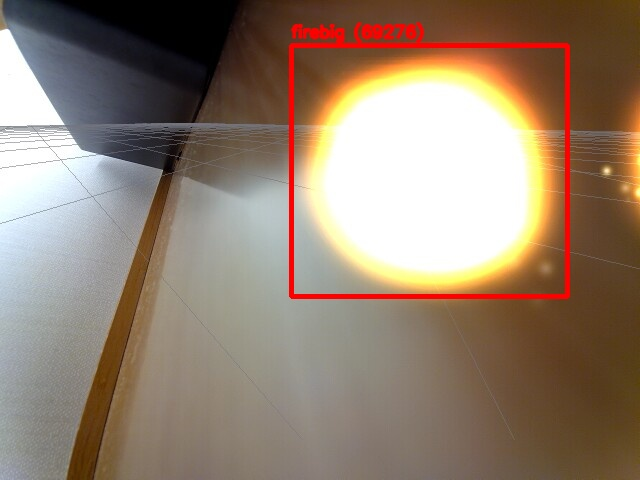firebig: (291, 45, 567, 296)
